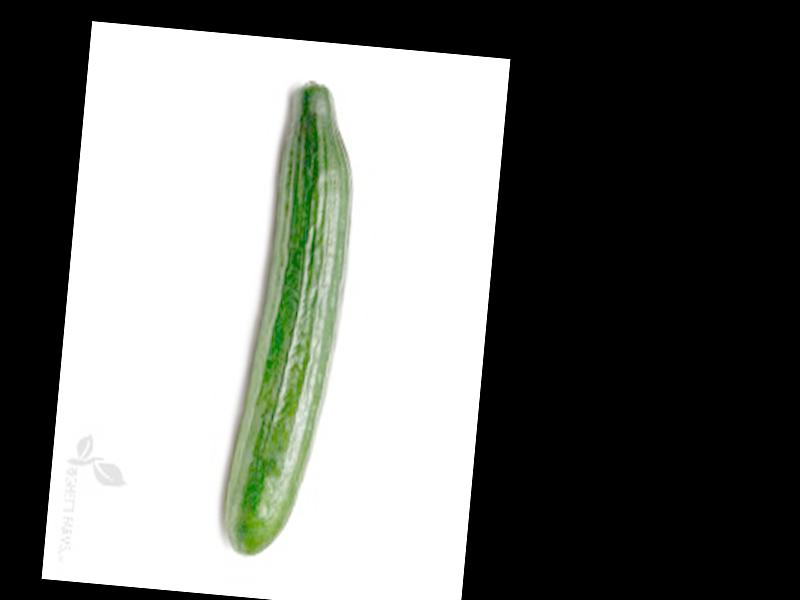Cucumber: (219, 76, 362, 564)
